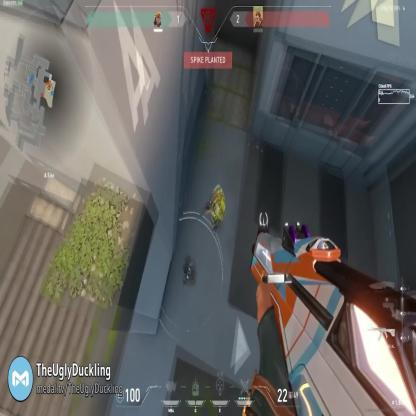enemy: (208, 185, 226, 234)
enemy_head: (214, 192, 221, 210)
